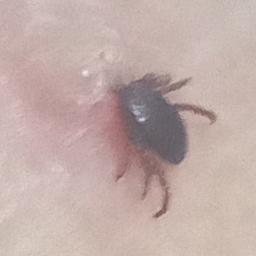Rhipicephalus sanguineus: (112, 72, 217, 217)
